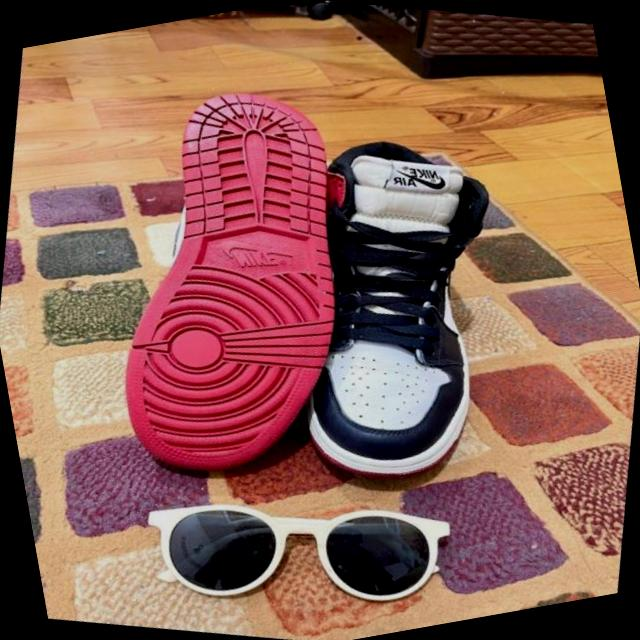nike_fake_jordan: (236, 98, 550, 504)
nike_original_jordan: (63, 42, 410, 444)
